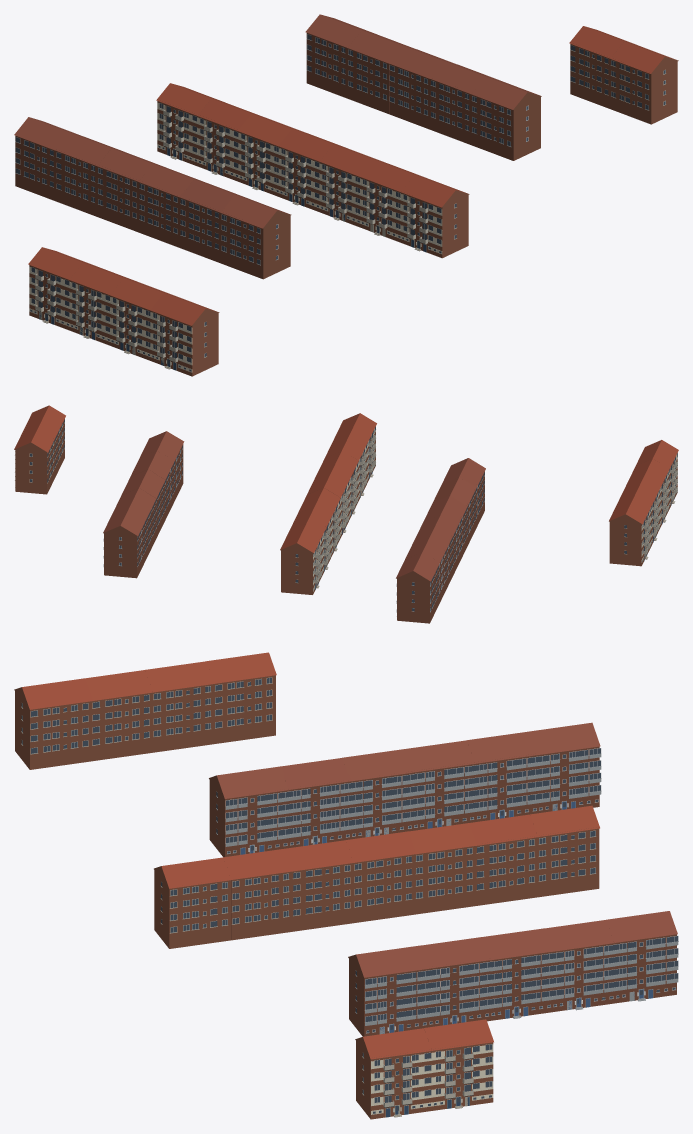
File: sonderbuur-merged.glb
3 renders of one model, top to bottom at view 1: azimuth 30°, elevation 25°; view 2: azimuth 150°, elevation 25°; view 3: azimuth 270°, elevation 25°, orthographic. The views are drawn at different scales.
Parts seen in each view (by area): view 1: sonderbuur; view 2: sonderbuur; view 3: sonderbuur.
Boxes of the visible parts, x1,y1,x2,y2 form: sonderbuur: [14, 14, 678, 376]; sonderbuur: [14, 405, 678, 623]; sonderbuur: [14, 652, 678, 1119].
Size of the model in its own units: 208 by 17.81 by 144.
